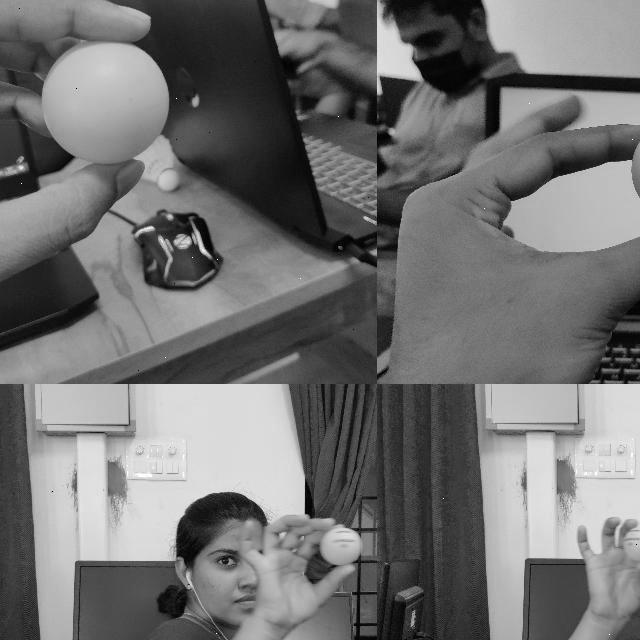ping-pong-ball: (41, 41, 169, 165), (320, 528, 362, 564), (620, 528, 639, 560)
